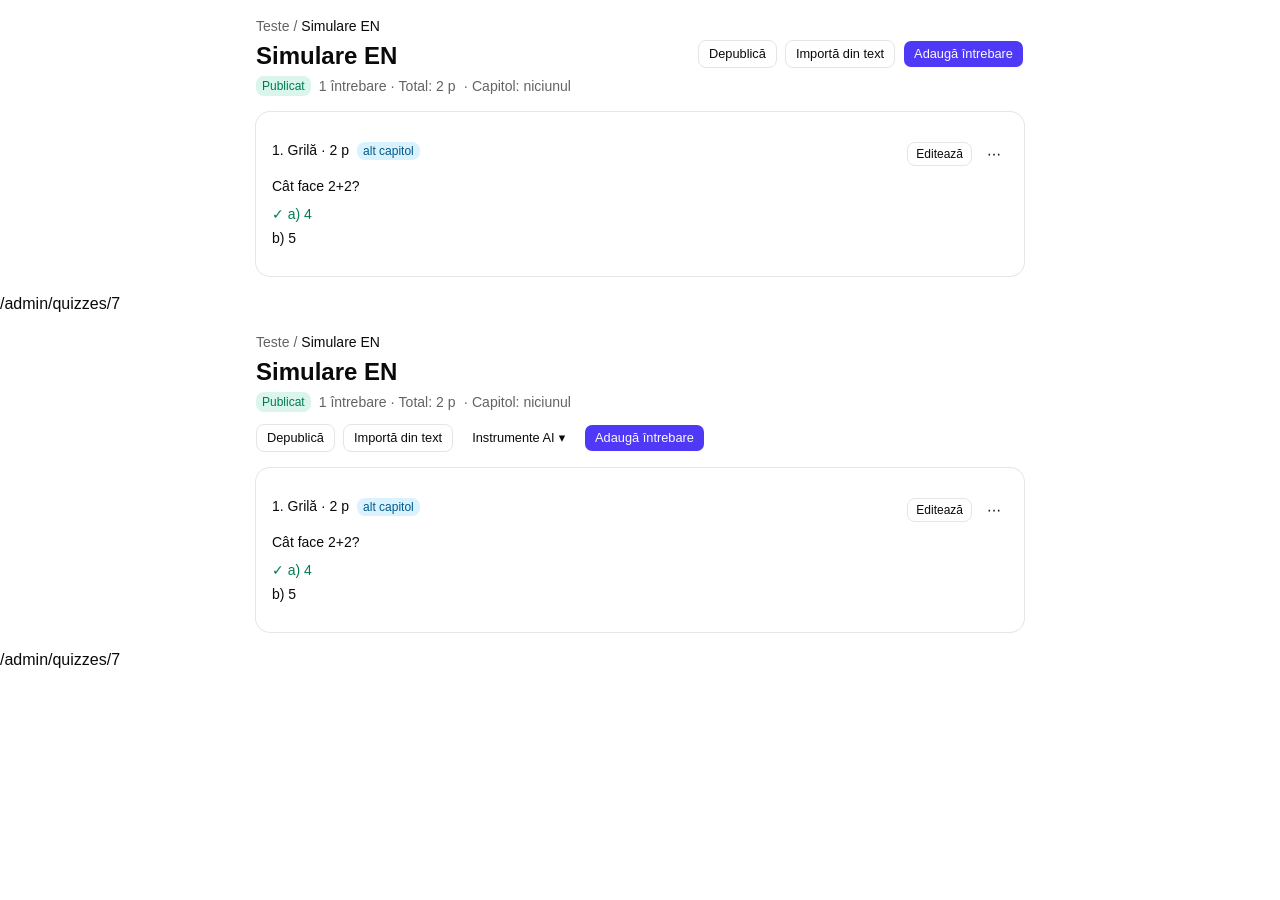
it: AdminQuizzesPage › offers the barem from photos on a test with questions, only where the server reads it
Expected: the 1st text "Cât face 2+2?" is shown, x1=272 y1=178 x2=360 y2=194
Click the button "Instrumente AI ▾" at [519, 438], box x1=461 y1=424 x2=576 y2=452
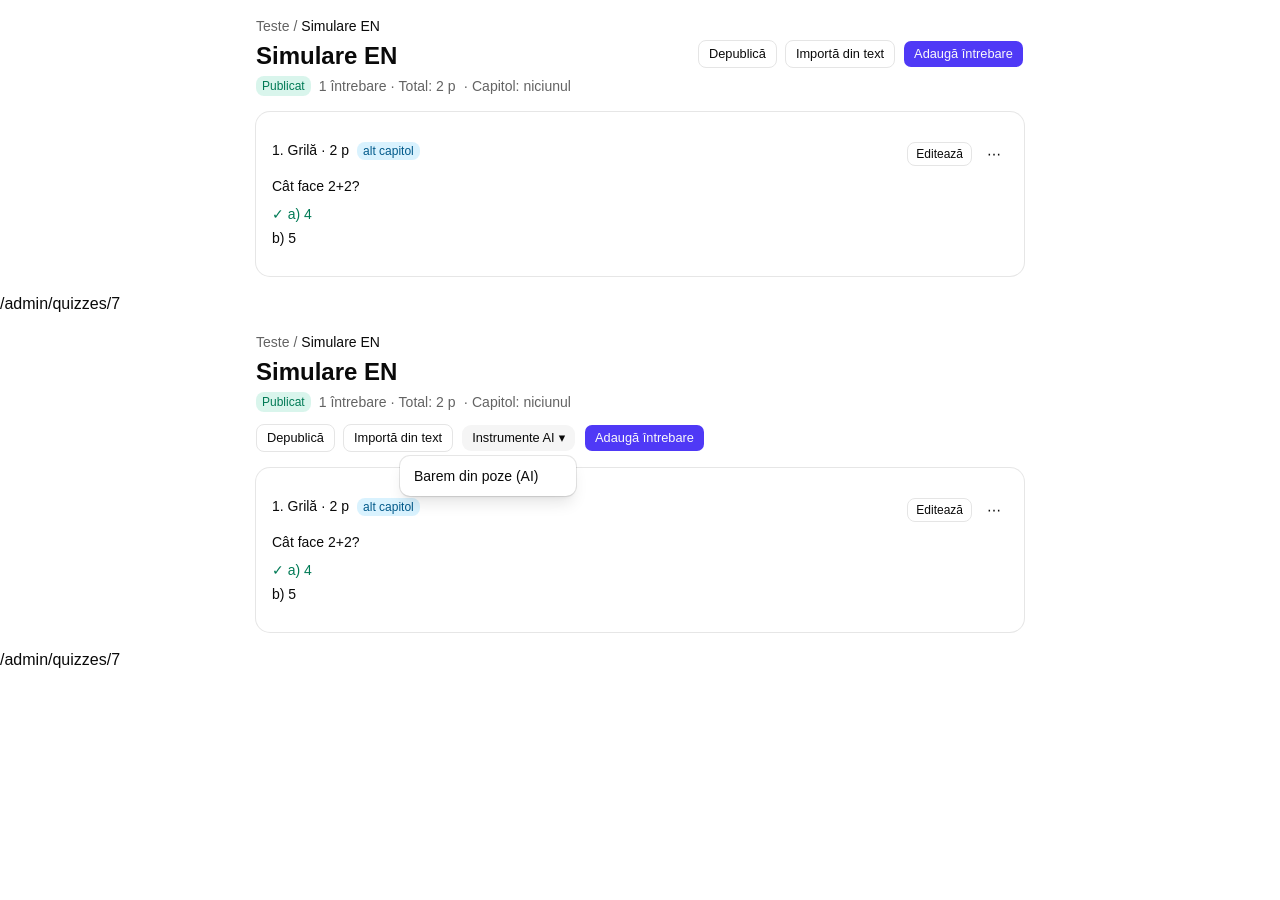
Click the menu item "Barem din poze (AI)" at [476, 476], box x1=414 y1=468 x2=538 y2=484
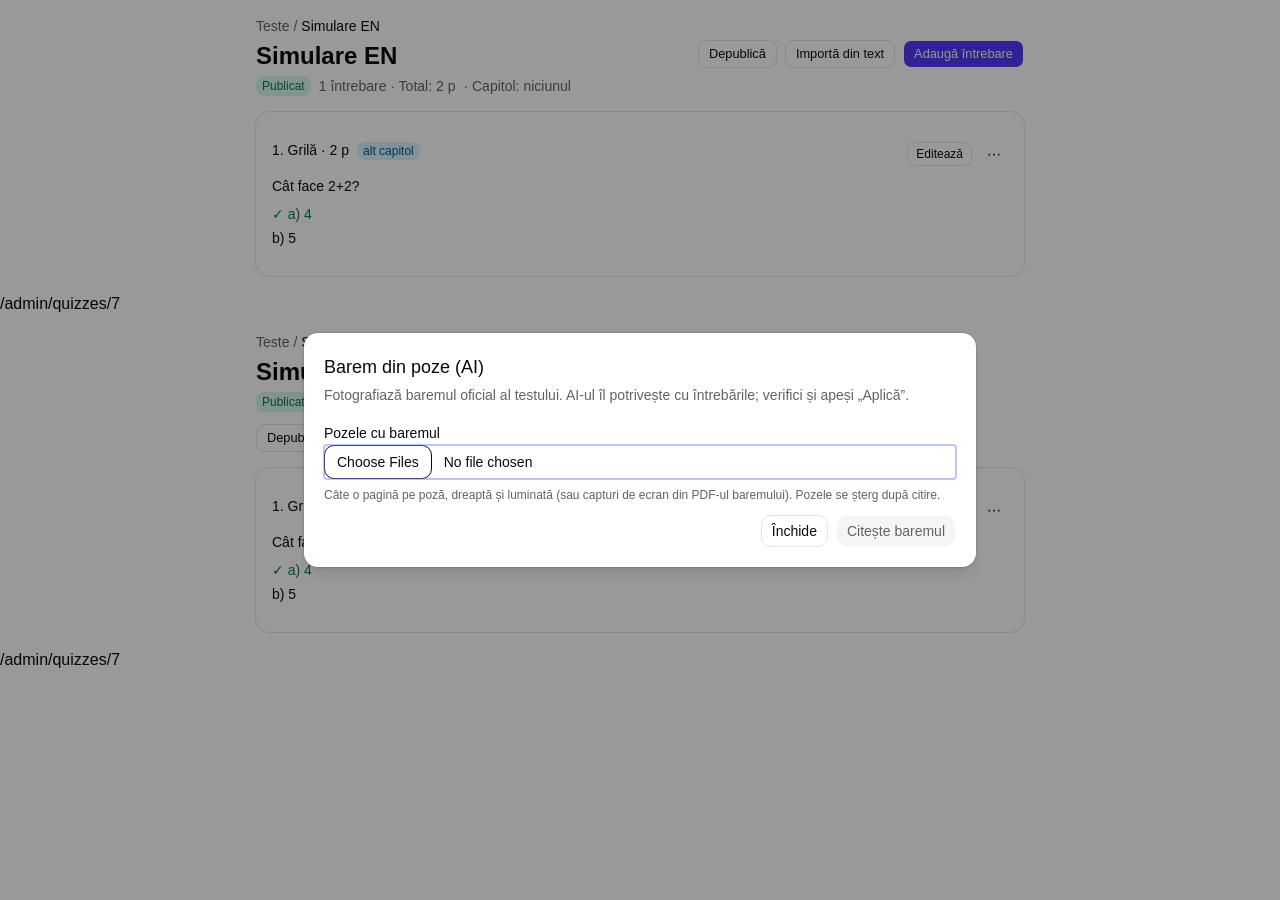
Now the dialog "Barem din poze (AI)" is shown, box x1=304 y1=333 x2=976 y2=567
